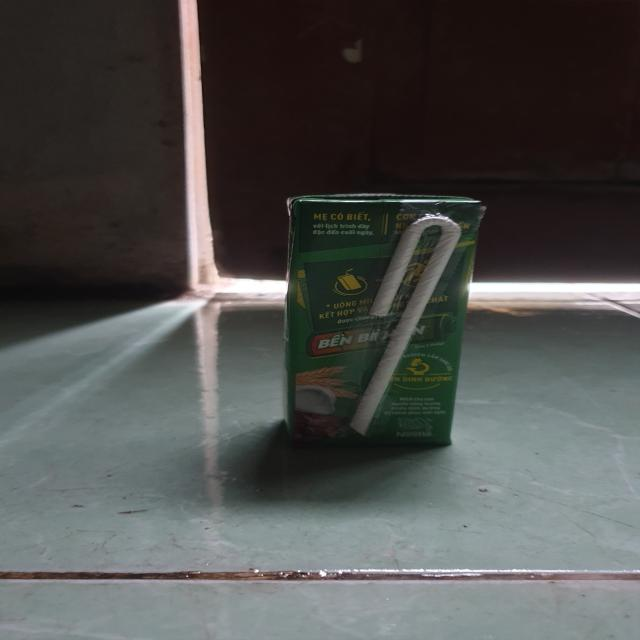Milo: (276, 191, 489, 456)
